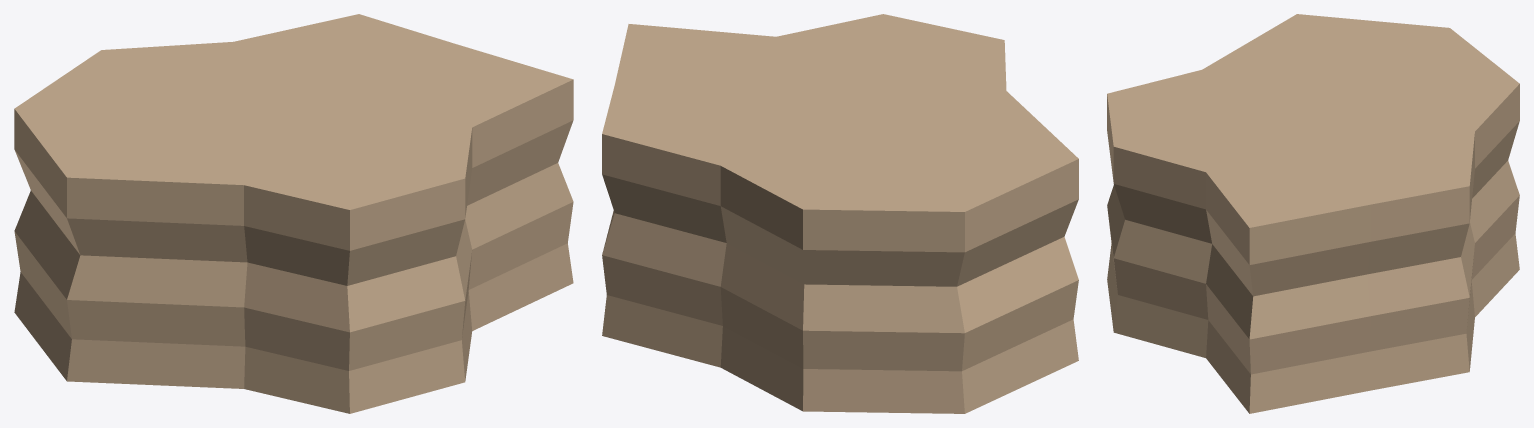
File: flat_rock_medium_01.fbx
3 renders of one model, left to right at view 1: azimuth 30°, elevation 25°; view 2: azimuth 150°, elevation 25°; view 3: azimuth 270°, elevation 25°, orthographic. The views are drawn at different scales.
Visible parts, largest first — view 1: flat_rock_medium_01; view 2: flat_rock_medium_01; view 3: flat_rock_medium_01.
Boxes of the visible parts, x1,y1,x2,y2 form: flat_rock_medium_01: (14,14,573,413); flat_rock_medium_01: (602,14,1078,413); flat_rock_medium_01: (1107,14,1519,413).
Size of the model in its own units: 324 by 131 by 264.
